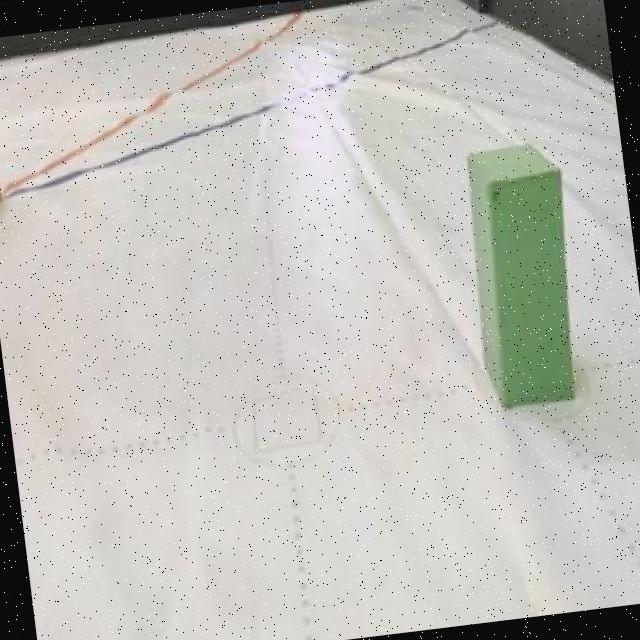greenbox: (459, 138, 594, 408)
